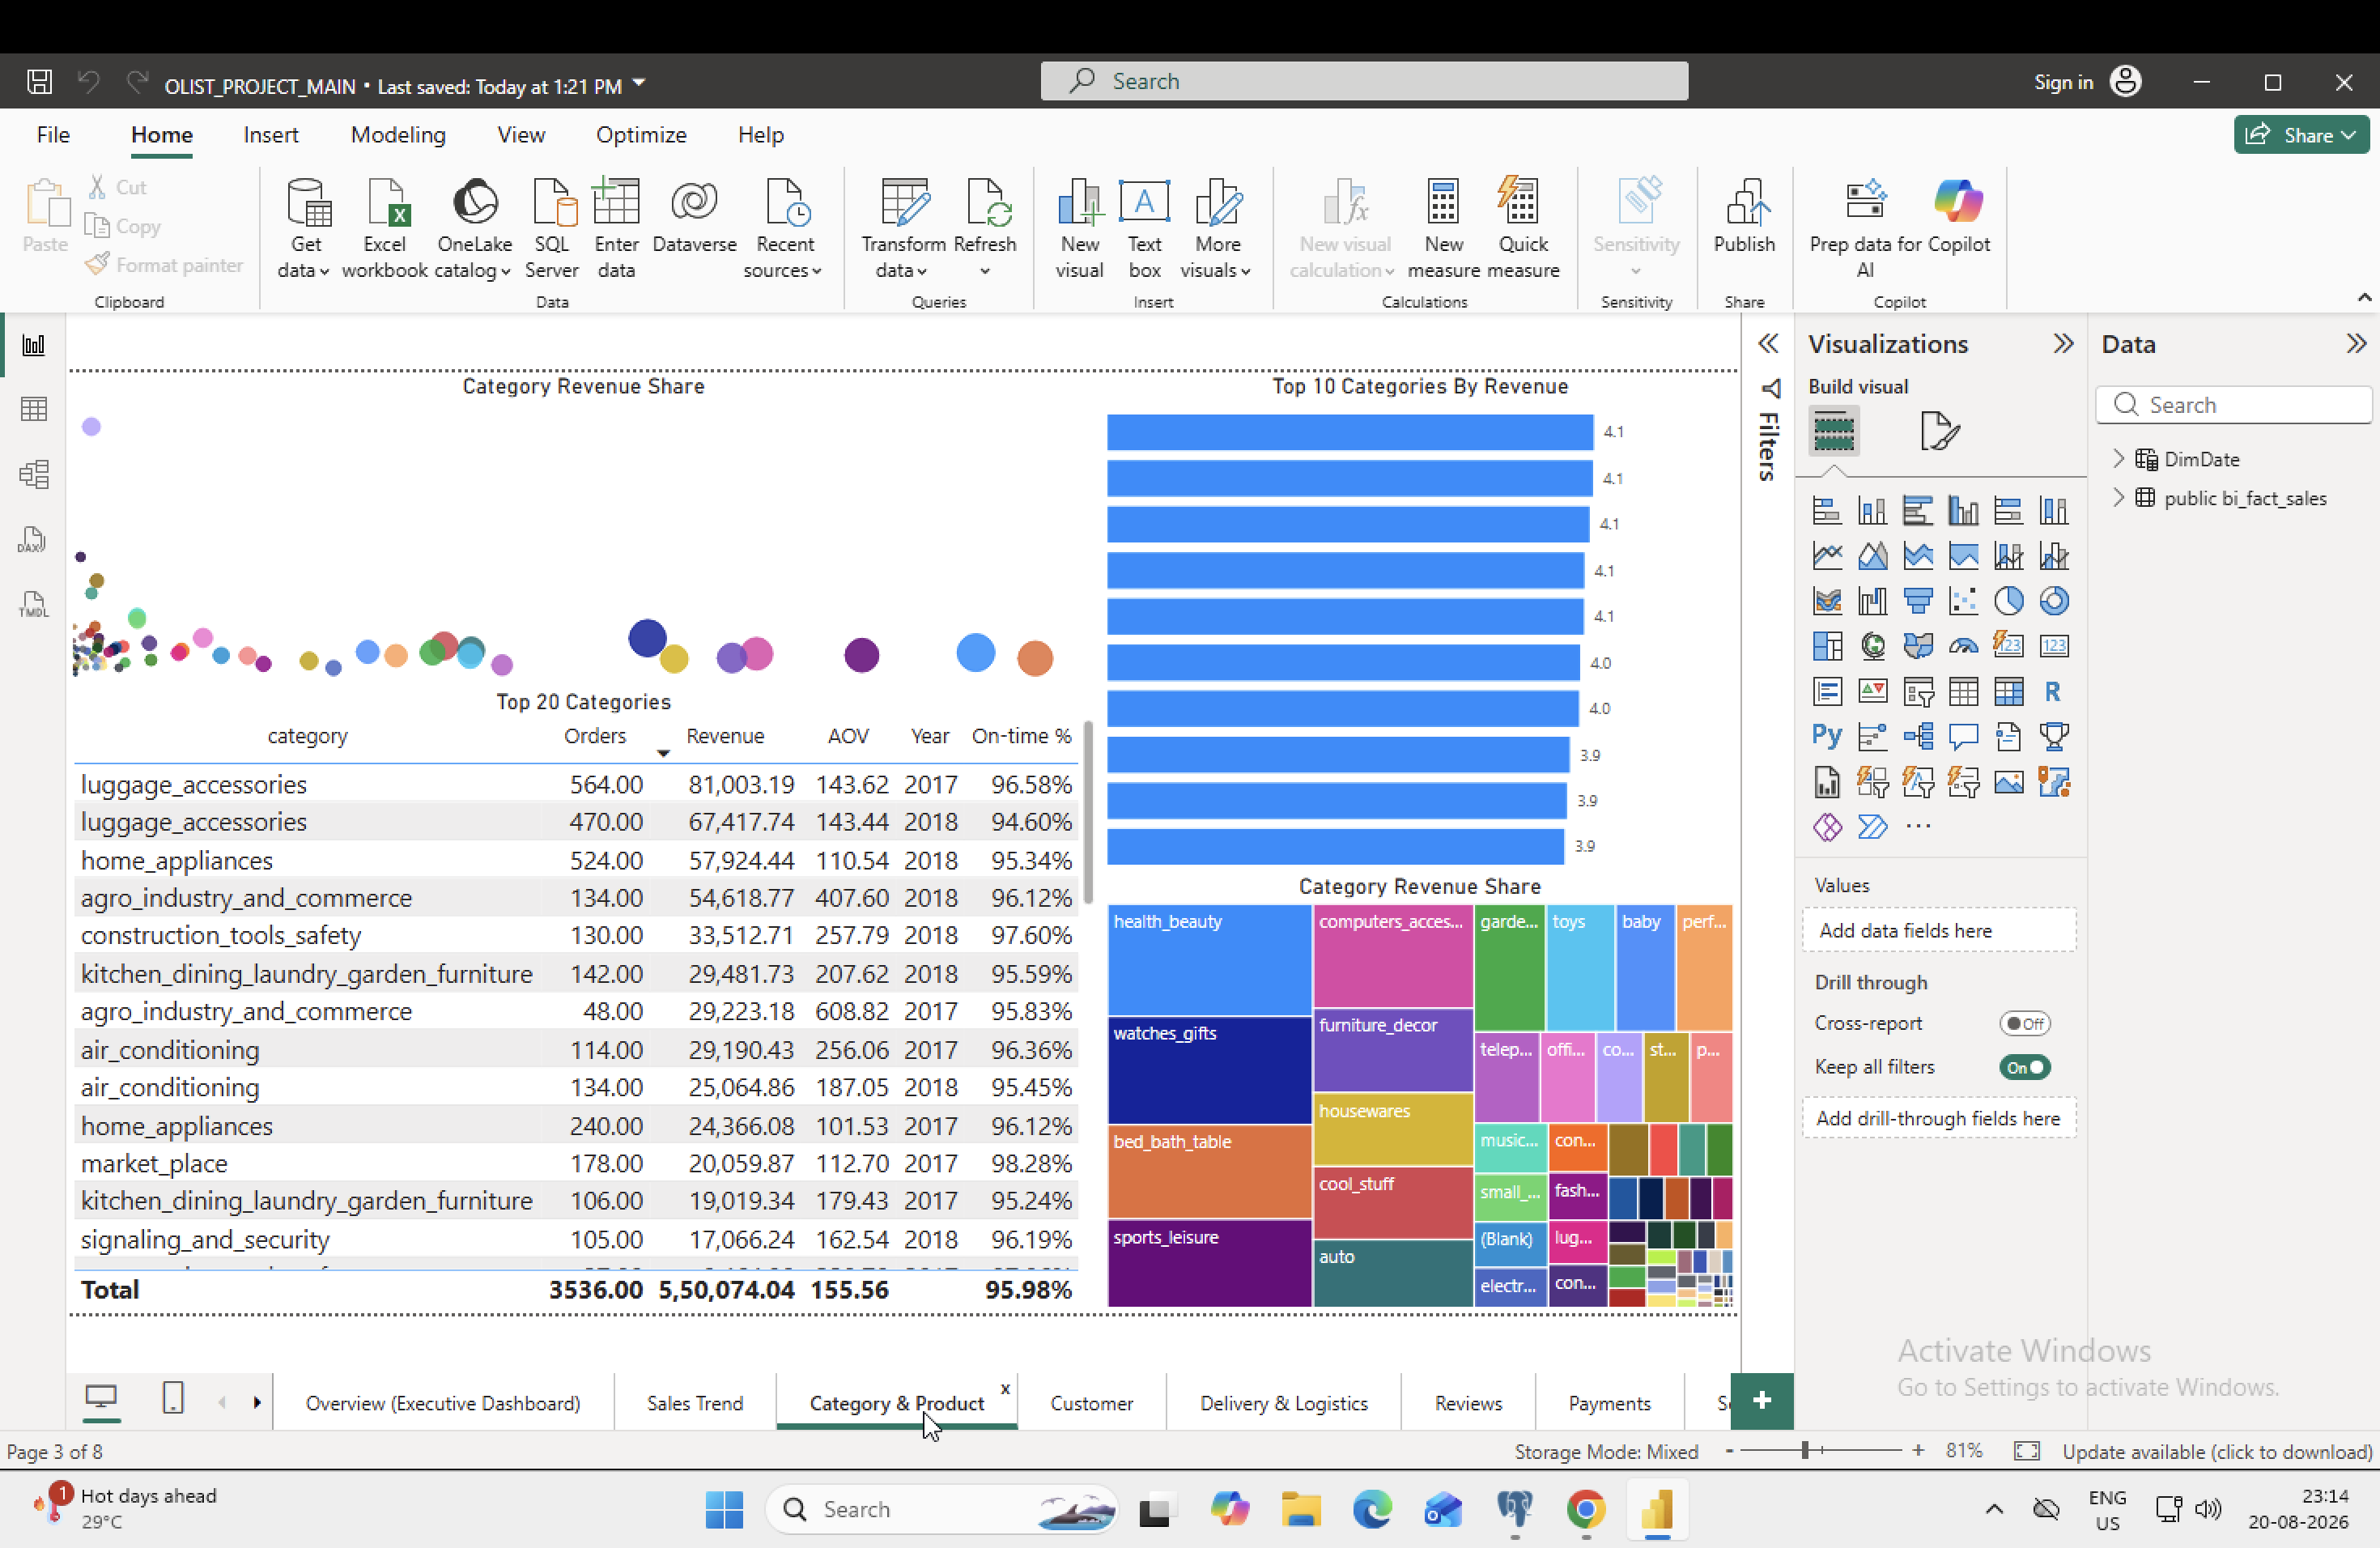

What the dashboard file says about the page in this screenshot:
{"tool":"powerbi","page":{"name":"Category & Product","canvas":[1280,720],"ordinal":2},"visuals":[{"type":"treemap","title":"Category Revenue Share","fields":{"Values":["public bi_fact_sales.Revenue"],"Group":["public bi_fact_sales.category"]},"box":[791.2,382.1,488.8,337.5],"z":0},{"type":"scatterChart","title":"Category Revenue Share","fields":{"X":["public bi_fact_sales.Orders"],"Y":["public bi_fact_sales.AOV"],"Size":["public bi_fact_sales.Revenue"],"Series":["public bi_fact_sales.category"]},"box":[0,0,791.5,241.5],"z":1000},{"type":"barChart","title":"Top 10 Categories By Revenue","fields":{"Category":["public bi_fact_sales.category"],"Y":["public bi_fact_sales.Avg Rating"]},"box":[791.2,0,488.8,382.1],"z":2000},{"type":"tableEx","title":"Top 20 Categories","fields":{"Values":["public bi_fact_sales.category","public bi_fact_sales.Orders","public bi_fact_sales.Revenue","public bi_fact_sales.AOV","DimDate.Year","public bi_fact_sales.On-time %"]},"box":[0,242,791.2,477.6],"z":3000}]}

Visuals, with their boxes on the page's 1280x720 design canvas (x1, y1, x2, y2). These are canvas units, not pixel positions in the 2380x1548 screenshot, which may show the page scaled, cropped or inside an application window:
"Category Revenue Share" treemap: (left=791, top=382, right=1280, bottom=720)
"Category Revenue Share" scatterChart: (left=0, top=0, right=792, bottom=242)
"Top 10 Categories By Revenue" barChart: (left=791, top=0, right=1280, bottom=382)
"Top 20 Categories" tableEx: (left=0, top=242, right=791, bottom=720)
